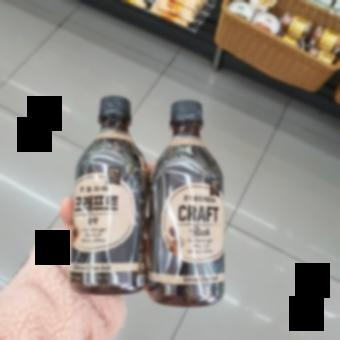georgiacraft_black: (147, 99, 226, 306), (68, 96, 148, 297)
